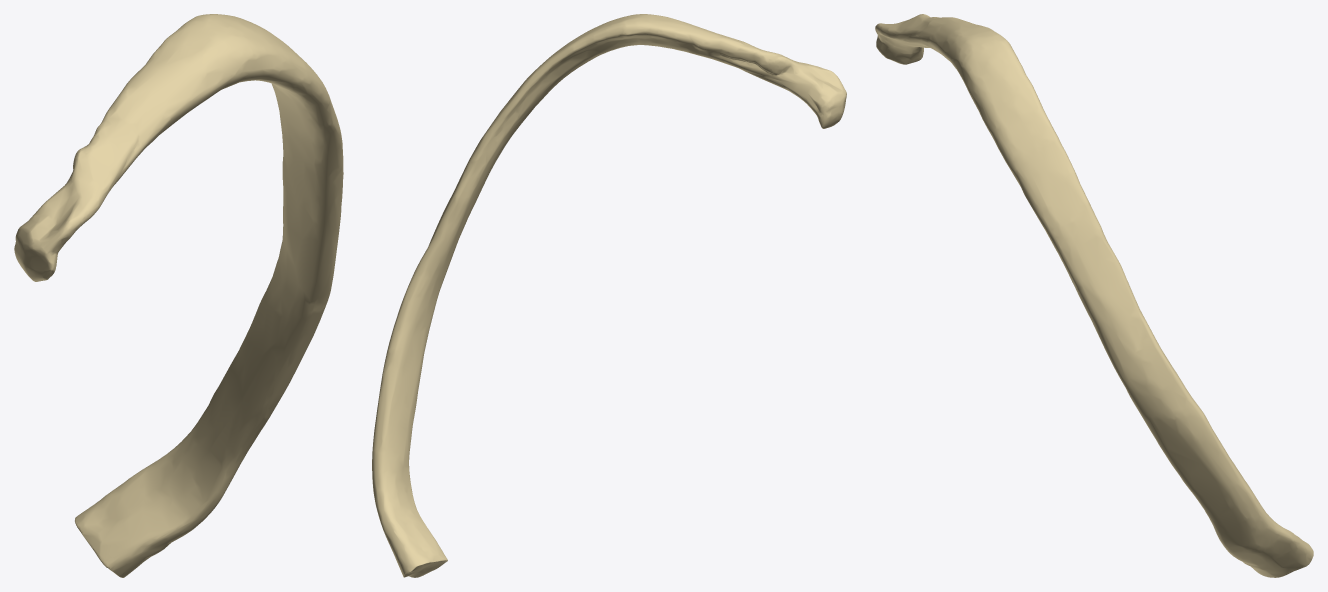
3 renders of one model, left to right at view 1: azimuth 30°, elevation 25°; view 2: azimuth 150°, elevation 25°; view 3: azimuth 270°, elevation 25°, orthographic. The views are drawn at different scales.
Parts seen in each view (by area): view 1: 左侧第七肋; view 2: 左侧第七肋; view 3: 左侧第七肋.
Part boxes in pixels (box(x1,y1,x2,y2)): 左侧第七肋: box(14, 14, 343, 577); 左侧第七肋: box(372, 14, 846, 577); 左侧第七肋: box(875, 14, 1313, 577).
Size of the model in its own units: 0.1844 by 0.2676 by 0.2127.
